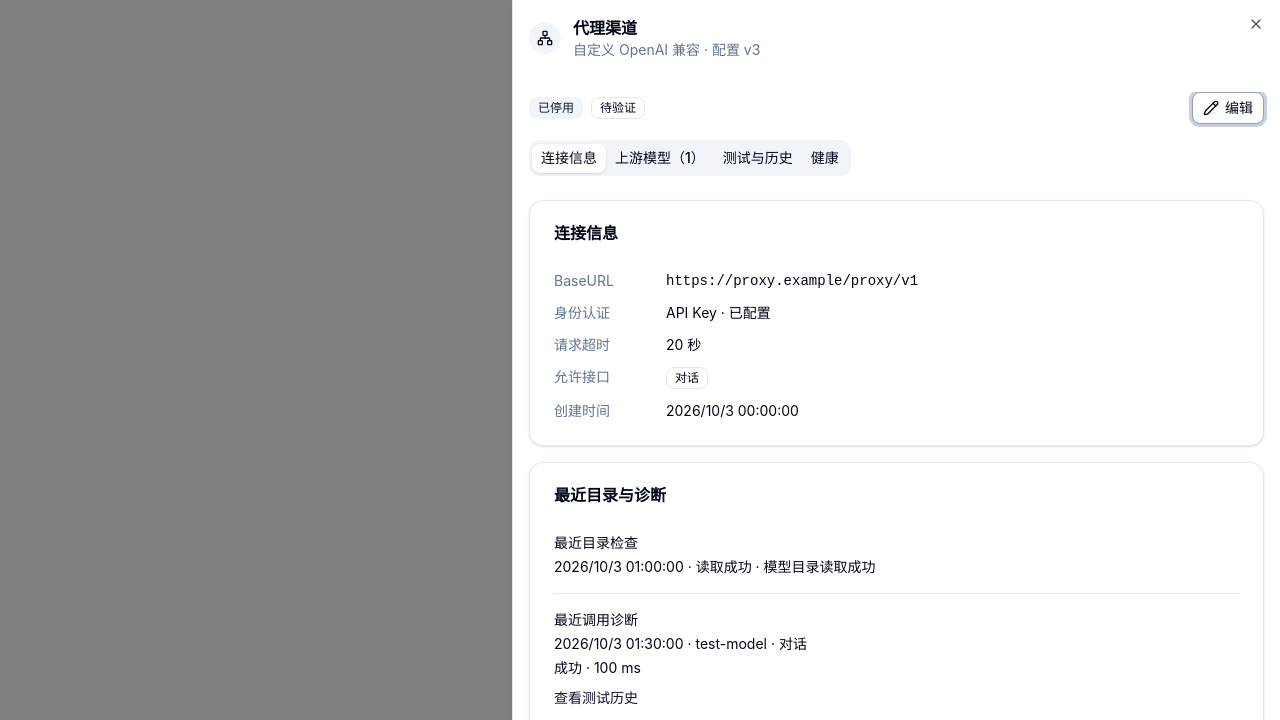
shows one BaseURL without fetching previews and keeps diagnostic history separate
Check: the text "https://proxy.example/proxy/v1" is shown, box [666,273,918,289]
Check: the text "最近调用诊断" is shown, box [554,611,638,628]
Click the tab "健康" at (825, 158), box [802,144,848,172]
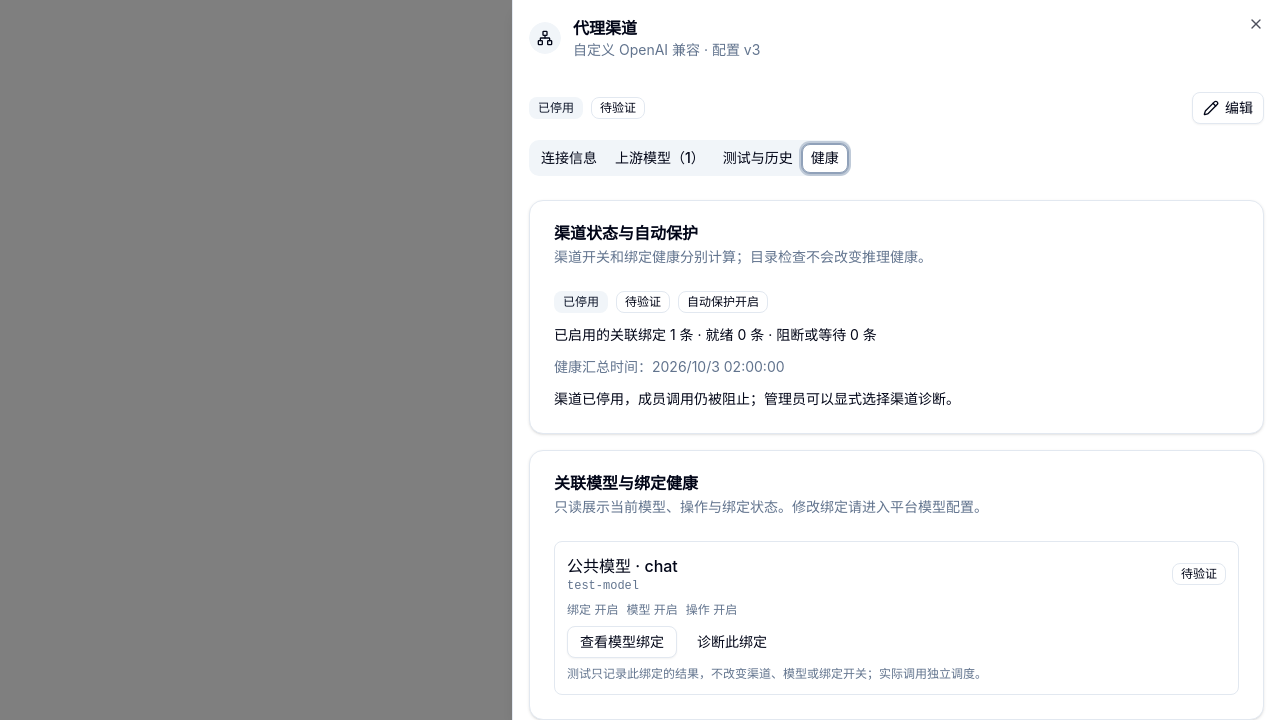
Check: the text "公共模型 · chat" is shown, box [567,554,678,578]
Check: the text "渠道已停用，成员调用仍被阻止；管理员可以显式选择渠道诊断。" is shown, box [554,390,960,407]
